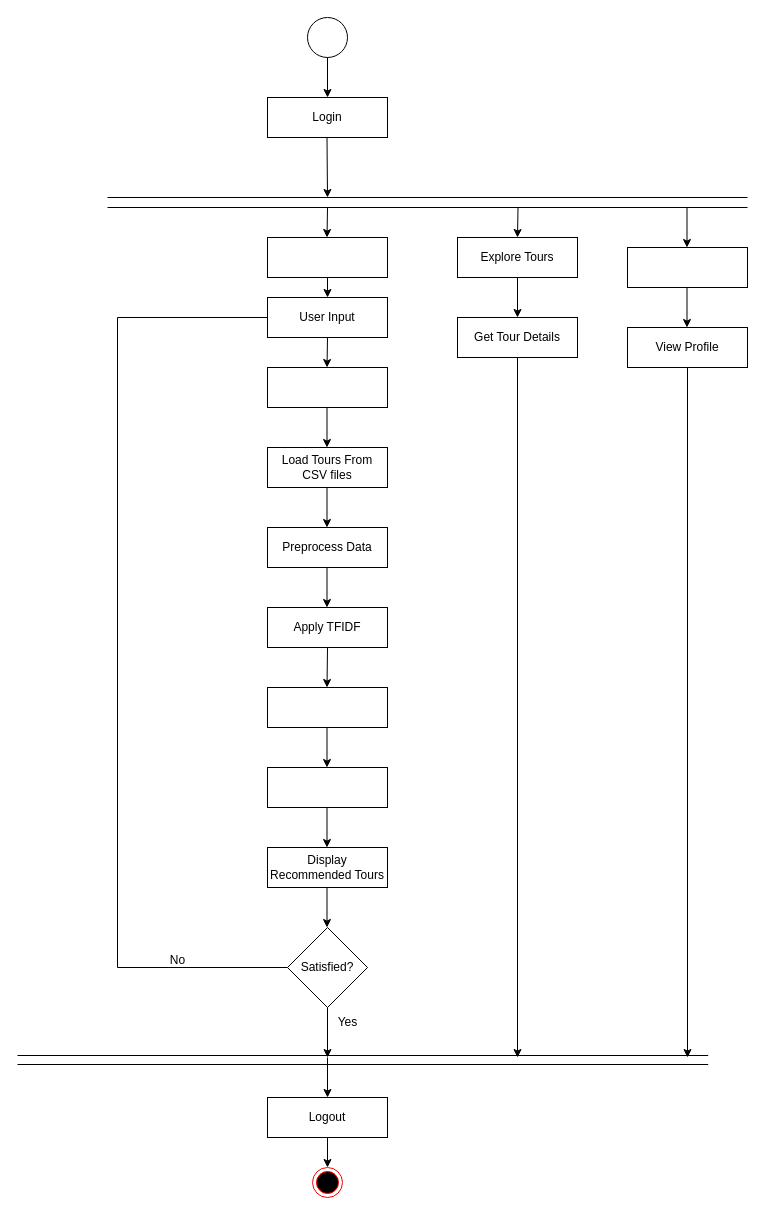
Image size: 766x1215. Some labels were removed from this diagram. The shapes that lost their labels are listed below. From the top down, each one's centre as x and y in pixels, then its label:
At (327,257): "Get Recommendation".
At (687,267): "Profile".
At (327,387): "User Interests".
At (327,707): "Calculate Cosine Similarity".
At (327,787): "Recommend Tours".
